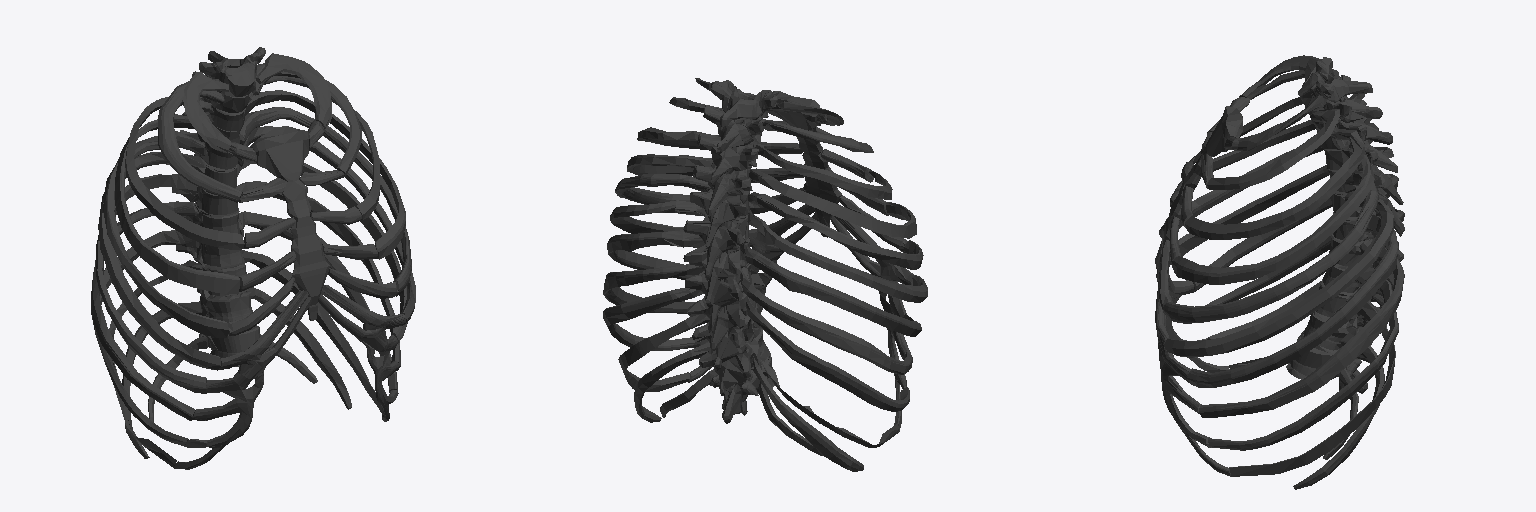
Rendered from Torso.obj.
The picture shows the model from 3 angles: view 1: azimuth 30°, elevation 25°; view 2: azimuth 150°, elevation 25°; view 3: azimuth 270°, elevation 25°; orthographic projection.
Bounding box in the file's own units: 29.34 × 36.83 × 22.58.